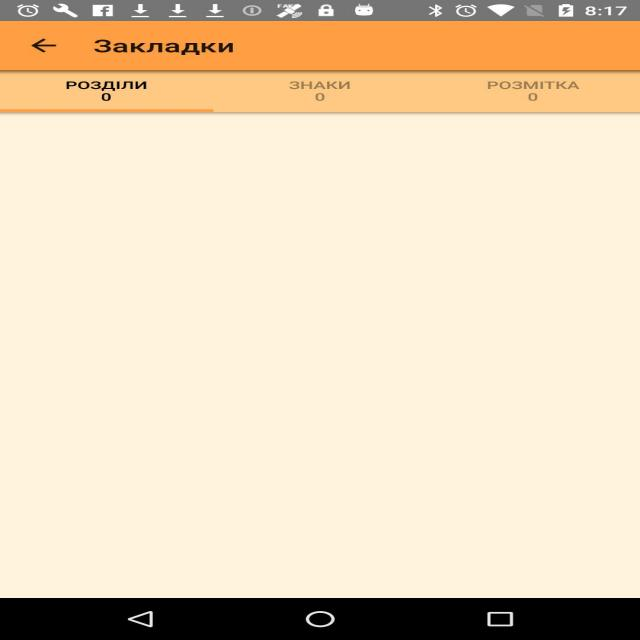button: (17, 26, 64, 60)
text: (79, 31, 261, 63), (476, 70, 604, 114), (38, 74, 164, 114), (262, 78, 368, 110)
